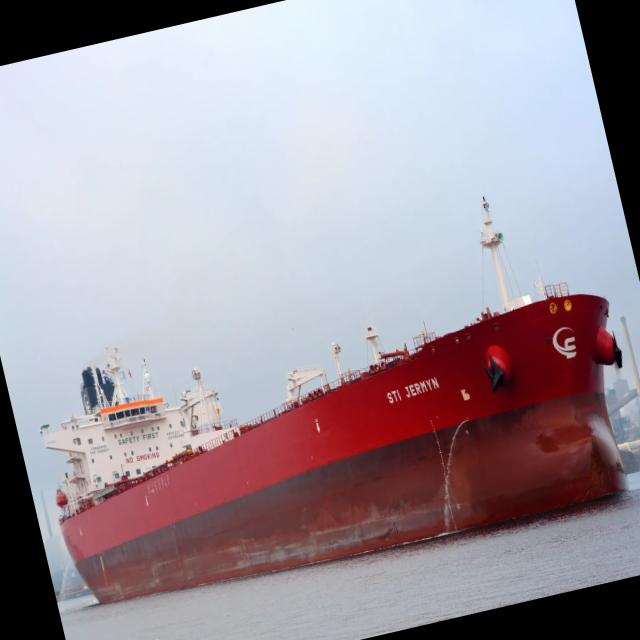Tanker: (41, 198, 627, 602)
